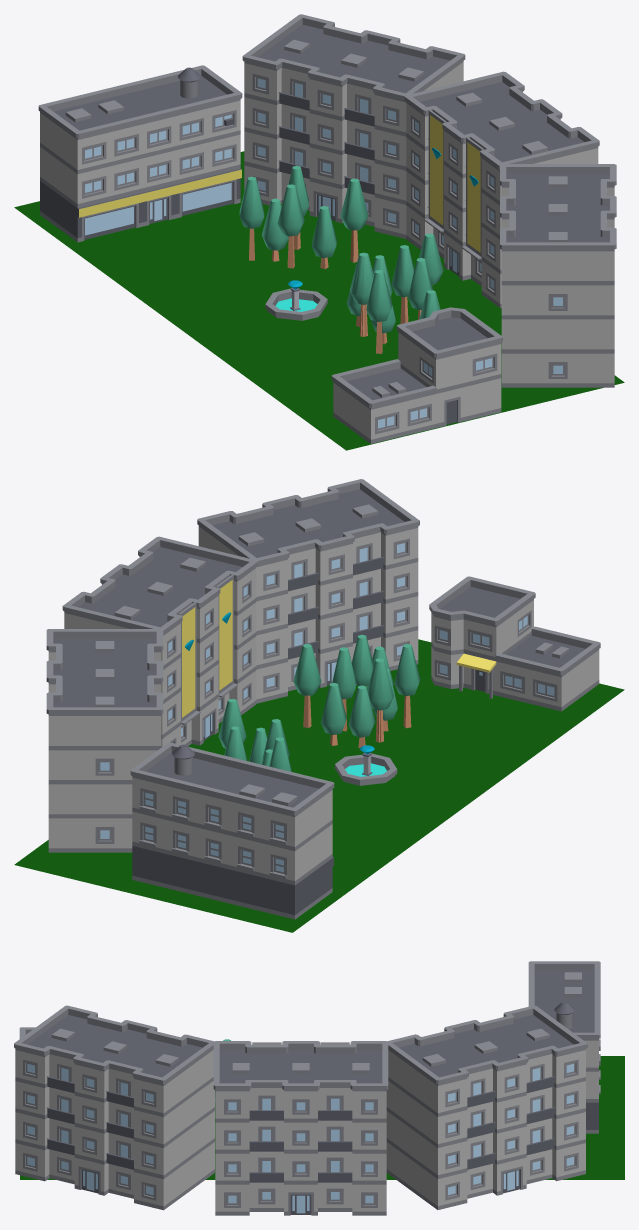
The model's file is university.fbx.
The picture shows the model from 3 angles, top to bottom: view 1: azimuth 30°, elevation 25°; view 2: azimuth 150°, elevation 25°; view 3: azimuth 270°, elevation 25°; orthographic projection. The views are drawn at different scales.
Parts seen in each view (by area): view 1: grass, large_buildingA__2_, large_buildingF, large_buildingA__1_, large_buildingA, small_buildingE, sign_billboard, sign_billboard__1_, tree_large, tree_large__6_, tree_large__3_, tree_large__4_ (+8 smaller); view 2: grass, large_buildingA__1_, large_buildingF, large_buildingA__2_, large_buildingA, small_buildingE, sign_billboard, sign_billboard__1_, tree_large__1_, tree_large__3_, tree_small__3_, tree_small__2_ (+5 smaller); view 3: large_buildingA__1_, large_buildingA__2_, large_buildingA, large_buildingF, grass.
Boxes of the visible parts, left/top/right/bottom form: grass: left=14, top=151, right=624, bottom=450; large_buildingA__2_: left=242, top=14, right=465, bottom=238; large_buildingF: left=38, top=65, right=242, bottom=242; large_buildingA__1_: left=500, top=164, right=616, bottom=387; large_buildingA: left=404, top=71, right=599, bottom=308; small_buildingE: left=331, top=307, right=502, bottom=443; sign_billboard: left=424, top=110, right=446, bottom=232; sign_billboard__1_: left=462, top=137, right=484, bottom=259; tree_large: left=340, top=178, right=368, bottom=262; tree_large__6_: left=277, top=184, right=304, bottom=268; tree_large__3_: left=366, top=270, right=392, bottom=353; tree_large__4_: left=239, top=176, right=264, bottom=260; grass: left=14, top=639, right=624, bottom=932; large_buildingA__1_: left=197, top=479, right=419, bottom=703; large_buildingF: left=130, top=742, right=334, bottom=919; large_buildingA__2_: left=46, top=629, right=163, bottom=852; large_buildingA: left=62, top=536, right=257, bottom=747; small_buildingE: left=429, top=576, right=600, bottom=711; sign_billboard: left=178, top=602, right=200, bottom=724; sign_billboard__1_: left=216, top=575, right=237, bottom=697; tree_large__1_: left=293, top=644, right=321, bottom=728; tree_large__3_: left=394, top=644, right=420, bottom=728; tree_small__3_: left=348, top=685, right=375, bottom=747; tree_small__2_: left=321, top=682, right=346, bottom=745; large_buildingA__1_: left=14, top=1005, right=216, bottom=1210; large_buildingA__2_: left=385, top=1005, right=587, bottom=1209; large_buildingA: left=213, top=1041, right=388, bottom=1215; large_buildingF: left=528, top=961, right=600, bottom=1133; grass: left=20, top=1056, right=624, bottom=1179.
Size of the model in its own units: 443 by 168 by 714.
